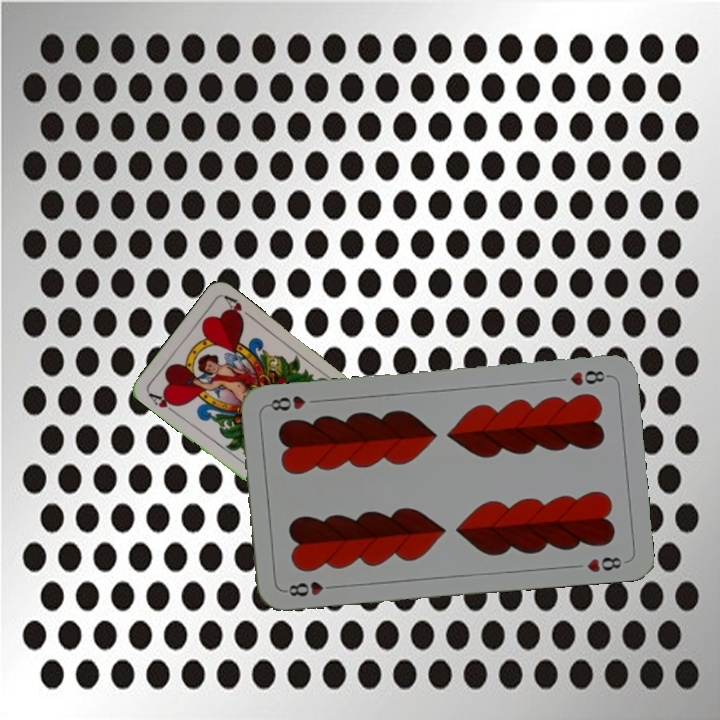H8: (280, 577, 339, 600), (566, 366, 612, 389)
HA: (144, 388, 182, 417)
